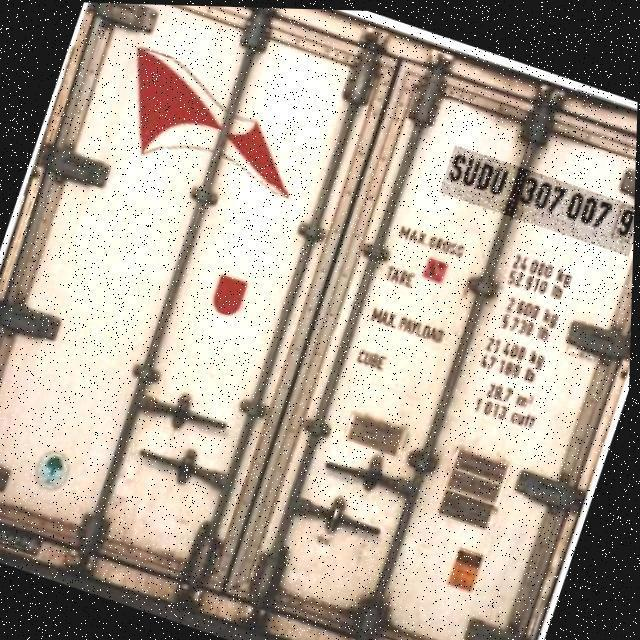container_number_h: (436, 141, 637, 254)
